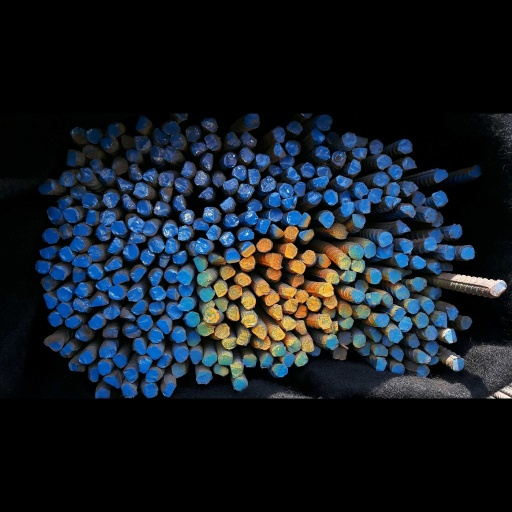dipstick: (46, 334, 64, 351), (99, 135, 118, 151), (38, 178, 55, 195), (111, 157, 128, 174), (127, 216, 144, 233), (153, 128, 170, 145), (130, 265, 146, 283), (67, 150, 84, 166), (76, 167, 93, 183), (117, 176, 134, 192), (103, 191, 119, 208), (136, 199, 153, 215), (107, 237, 123, 254), (131, 299, 148, 315), (75, 325, 92, 341), (135, 117, 152, 133), (201, 117, 218, 133), (203, 306, 219, 323), (318, 211, 334, 228), (169, 134, 187, 149), (162, 121, 181, 135), (71, 126, 87, 142), (100, 210, 116, 226), (111, 220, 127, 236), (148, 236, 164, 252), (137, 314, 153, 330), (142, 167, 158, 183), (158, 171, 174, 187), (135, 135, 151, 151), (195, 238, 211, 254), (184, 311, 200, 327), (260, 176, 276, 192), (348, 243, 364, 259), (376, 154, 392, 170), (432, 190, 448, 206), (333, 223, 349, 239), (42, 228, 59, 243), (96, 224, 111, 241), (87, 264, 104, 279), (40, 276, 57, 291), (95, 277, 112, 292), (148, 268, 163, 285), (73, 297, 90, 312), (138, 357, 153, 374), (162, 222, 177, 239), (153, 201, 170, 216), (197, 321, 214, 336), (241, 293, 256, 310), (490, 281, 507, 296), (102, 375, 120, 389), (199, 153, 213, 171), (39, 246, 58, 259), (59, 171, 75, 186), (81, 193, 96, 209), (70, 185, 86, 200), (46, 207, 62, 222), (64, 207, 79, 223), (122, 193, 137, 209), (123, 244, 139, 259), (70, 236, 85, 252), (59, 246, 74, 262), (162, 145, 177, 161), (186, 125, 201, 141), (204, 135, 220, 150), (241, 131, 257, 146), (194, 170, 210, 185), (202, 207, 218, 222), (219, 231, 235, 246), (239, 183, 254, 199), (215, 323, 230, 339), (252, 324, 268, 339), (316, 115, 332, 130), (283, 243, 298, 259), (306, 295, 321, 311), (317, 313, 332, 329), (366, 268, 381, 284), (43, 292, 57, 309), (127, 287, 144, 301), (56, 303, 73, 317), (148, 301, 165, 315), (132, 338, 146, 355), (190, 141, 207, 155), (181, 161, 195, 178), (256, 238, 273, 252), (177, 297, 194, 311), (373, 172, 390, 186), (89, 294, 108, 306), (143, 221, 158, 236), (74, 282, 89, 297), (140, 250, 155, 265), (109, 285, 124, 300), (88, 314, 103, 329), (162, 382, 177, 397), (147, 345, 162, 360), (222, 152, 237, 167), (255, 153, 270, 168), (220, 196, 235, 211), (167, 305, 182, 320), (171, 362, 186, 377), (285, 140, 300, 155), (331, 151, 346, 166), (300, 162, 315, 177), (403, 181, 418, 196), (366, 291, 381, 306), (99, 168, 115, 182), (126, 148, 142, 162), (59, 223, 73, 239), (56, 287, 72, 301), (103, 305, 119, 319), (123, 368, 139, 382), (121, 383, 137, 397), (145, 368, 161, 382), (149, 328, 163, 344), (227, 131, 241, 147), (240, 147, 254, 163), (172, 195, 186, 211), (193, 217, 209, 231), (224, 213, 240, 227), (176, 270, 192, 284), (172, 326, 186, 342), (241, 313, 257, 327), (287, 121, 303, 135), (373, 313, 389, 327), (372, 343, 388, 357), (107, 123, 124, 136), (124, 324, 141, 337), (69, 359, 86, 372), (298, 211, 311, 228), (72, 255, 90, 267), (104, 259, 122, 271), (208, 253, 226, 265), (87, 129, 102, 143), (134, 182, 149, 196), (50, 266, 65, 280), (72, 267, 86, 282), (88, 246, 102, 261), (121, 306, 135, 321), (60, 343, 75, 357), (78, 350, 93, 364), (112, 354, 127, 368), (143, 383, 158, 397), (164, 239, 179, 253), (159, 187, 173, 202), (232, 165, 246, 180), (212, 172, 226, 187), (175, 177, 189, 192), (180, 209, 194, 224), (223, 178, 238, 192), (243, 210, 258, 224), (164, 269, 179, 283), (241, 243, 256, 257), (197, 272, 212, 286), (200, 288, 215, 302), (187, 331, 201, 346), (157, 354, 172, 368), (237, 331, 251, 346), (342, 132, 356, 147), (315, 146, 330, 160), (279, 154, 294, 168), (324, 190, 338, 205), (269, 304, 283, 319), (294, 351, 308, 366), (333, 345, 347, 360), (322, 294, 337, 308), (351, 258, 365, 273), (386, 182, 400, 197), (394, 253, 409, 267), (388, 268, 402, 283), (411, 277, 426, 291), (388, 328, 402, 343), (57, 196, 73, 209), (74, 223, 90, 236), (113, 271, 129, 284), (150, 286, 166, 299), (102, 325, 118, 338), (247, 168, 260, 184), (239, 255, 255, 268), (273, 126, 286, 142), (336, 175, 352, 188), (269, 253, 282, 269), (272, 364, 288, 377), (355, 182, 368, 198), (399, 316, 412, 332), (99, 345, 116, 357), (48, 312, 62, 326), (193, 257, 207, 271), (221, 266, 235, 280), (237, 272, 251, 286), (228, 285, 242, 299), (203, 353, 217, 367), (226, 306, 240, 320), (272, 143, 286, 157), (311, 128, 325, 142), (279, 183, 293, 197), (287, 210, 301, 224), (284, 226, 298, 240), (398, 139, 412, 153), (388, 165, 402, 179), (434, 169, 448, 183), (396, 219, 410, 233), (429, 229, 443, 243), (399, 240, 413, 254), (395, 286, 409, 300), (428, 286, 442, 300), (392, 307, 406, 321), (460, 245, 474, 259), (129, 164, 142, 179), (98, 360, 111, 375), (157, 319, 170, 334), (177, 225, 190, 240), (178, 284, 193, 297), (226, 250, 241, 263), (175, 347, 188, 362), (196, 371, 211, 384), (271, 223, 284, 238), (299, 229, 314, 242), (271, 344, 286, 357), (284, 298, 297, 313), (325, 334, 338, 349), (319, 283, 334, 296), (338, 256, 351, 271), (341, 201, 354, 216), (369, 188, 382, 203), (352, 214, 365, 229), (379, 232, 392, 247), (400, 205, 415, 218), (425, 340, 438, 355), (415, 313, 428, 328), (65, 316, 81, 328), (238, 228, 254, 240), (364, 242, 376, 258), (121, 135, 135, 148), (89, 159, 103, 172), (213, 283, 226, 297), (230, 363, 243, 377), (242, 354, 256, 367), (215, 297, 228, 311), (222, 336, 236, 349), (255, 282, 269, 295), (348, 160, 361, 174), (287, 167, 300, 181), (282, 196, 296, 209), (291, 261, 305, 274), (302, 250, 315, 264), (271, 327, 285, 340), (300, 339, 314, 352), (295, 289, 308, 303), (339, 305, 353, 318), (351, 288, 364, 302), (370, 140, 383, 154), (402, 156, 416, 169), (358, 199, 371, 213), (412, 192, 425, 206), (421, 300, 434, 314), (425, 326, 438, 340), (445, 306, 458, 320), (449, 224, 462, 238), (35, 260, 50, 272), (246, 199, 261, 211), (190, 349, 202, 364), (317, 166, 332, 178), (313, 176, 328, 188), (266, 268, 281, 280), (264, 293, 279, 305), (261, 353, 273, 368), (339, 317, 354, 329), (385, 196, 400, 208), (425, 208, 437, 223), (408, 333, 420, 348), (435, 312, 447, 327), (442, 245, 454, 260), (206, 224, 217, 240), (382, 292, 393, 308), (86, 209, 96, 226), (166, 287, 179, 300), (269, 208, 282, 221), (318, 254, 331, 267), (424, 237, 437, 250), (412, 256, 425, 269), (428, 262, 441, 275), (407, 300, 420, 313), (357, 305, 370, 318), (451, 358, 464, 371), (172, 251, 186, 263), (269, 192, 281, 206), (308, 191, 322, 203), (292, 273, 304, 287), (282, 286, 296, 298), (283, 353, 295, 367), (287, 339, 301, 351), (354, 280, 368, 292), (233, 379, 248, 390), (259, 219, 270, 234), (341, 271, 356, 282), (432, 212, 443, 227), (89, 366, 99, 382), (246, 114, 259, 126), (326, 272, 339, 284), (352, 335, 365, 347), (369, 329, 381, 342), (391, 349, 403, 362), (417, 352, 430, 364), (460, 316, 472, 329), (468, 165, 481, 177), (296, 320, 307, 334), (295, 181, 305, 196), (283, 318, 295, 330), (417, 365, 429, 377), (353, 148, 366, 159), (375, 357, 386, 370), (445, 329, 456, 342), (96, 388, 110, 398), (218, 354, 232, 364), (392, 364, 404, 374), (441, 262, 453, 271)
